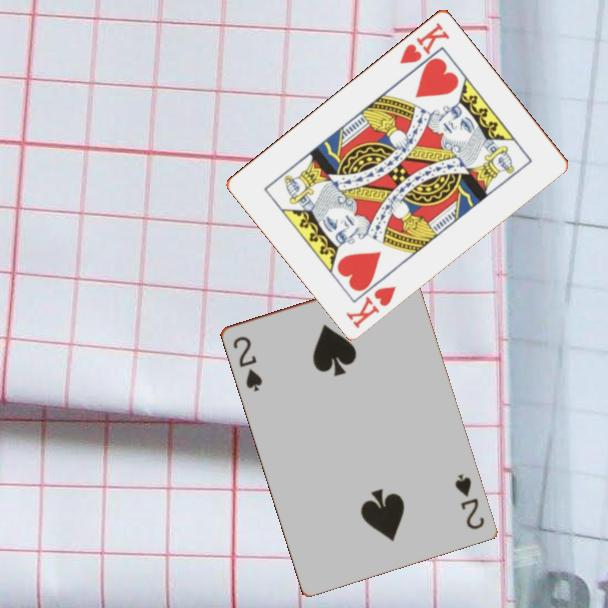h13: (396, 18, 453, 67), (342, 282, 399, 331)
s02: (229, 332, 265, 394), (451, 470, 487, 532)
